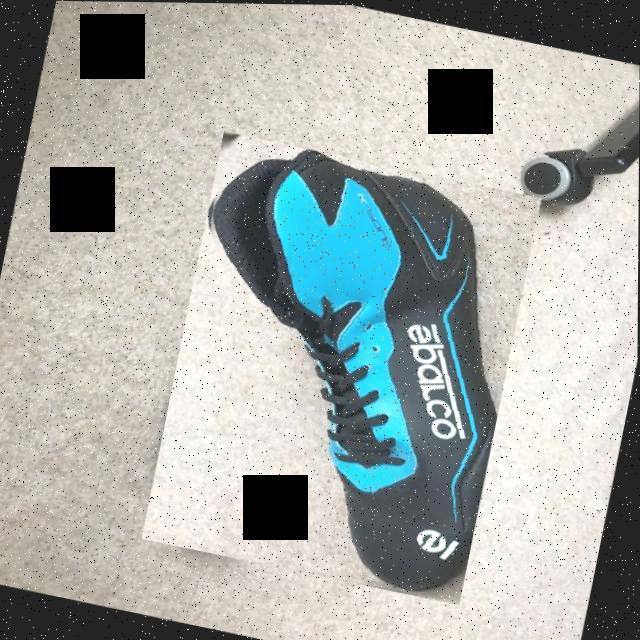shoe: (142, 130, 542, 605)
